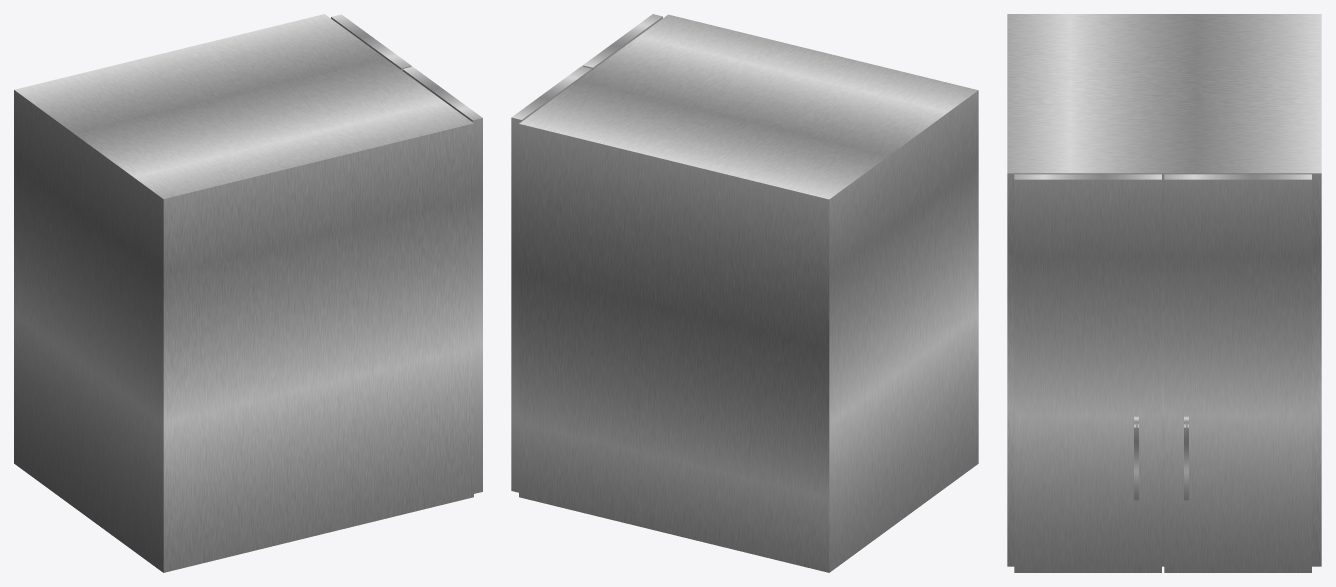
Rendered from Kök skåp.fbx.
The picture shows the model from 3 angles, left to right: view 1: azimuth 30°, elevation 25°; view 2: azimuth 150°, elevation 25°; view 3: azimuth 270°, elevation 25°; orthographic projection. The views are drawn at different scales.
Parts seen in each view (by area): view 1: pCube1, pCube2, pCube3; view 2: pCube1, pCube3, pCube2; view 3: pCube1, pCube2, pCube3.
Boxes of the visible parts, x1,y1,x2,y2 form: pCube1: [14, 14, 473, 572]; pCube2: [402, 66, 482, 493]; pCube3: [331, 14, 411, 70]; pCube1: [519, 14, 978, 572]; pCube3: [511, 66, 591, 492]; pCube2: [582, 14, 662, 69]; pCube1: [1007, 14, 1321, 566]; pCube2: [1014, 174, 1161, 572]; pCube3: [1164, 174, 1311, 572].
Bounding box in the file's own units: 0.6658 × 0.69 × 0.5.
Materials: 1 (1 with a texture image).
